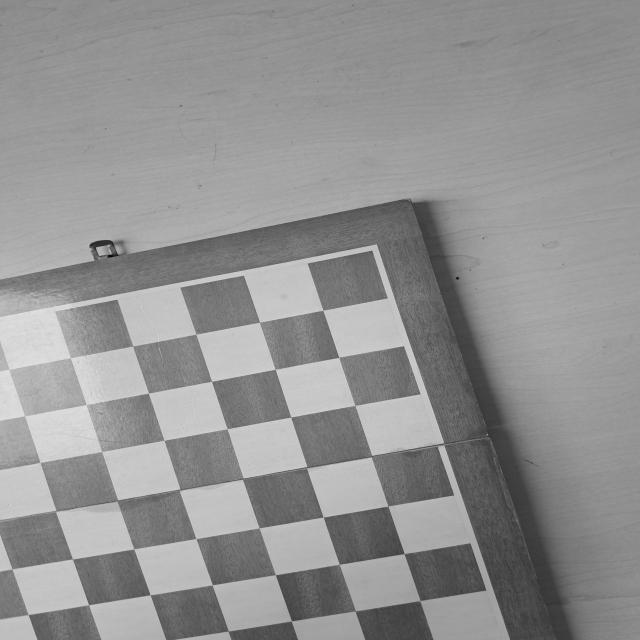chess-table-corners: (356, 240, 386, 264)
